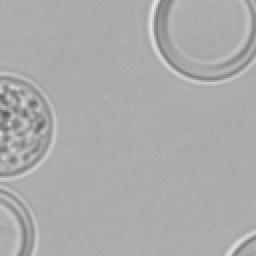picoshell: (150, 0, 254, 84), (0, 70, 56, 180), (0, 186, 40, 256), (225, 231, 256, 256)
